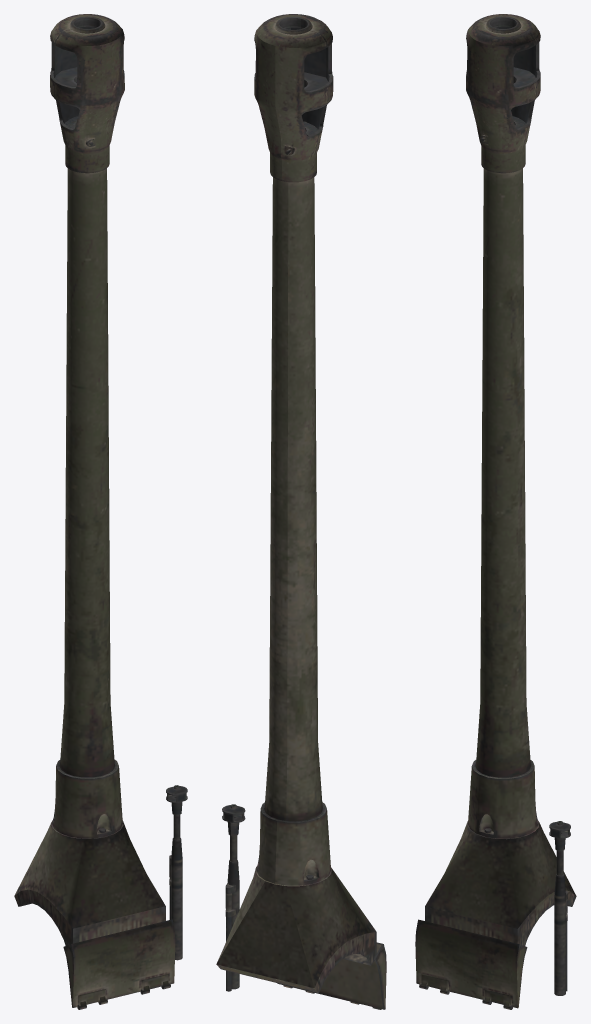
Rendered from Gun_01.glb.
3 renders of one model, left to right at view 1: azimuth 30°, elevation 25°; view 2: azimuth 150°, elevation 25°; view 3: azimuth 330°, elevation 25°, orthographic. The views are drawn at different scales.
Visible parts, largest first — view 1: set_0_group_0; view 2: set_0_group_0; view 3: set_0_group_0.
Boxes of the visible parts, x1=… form: set_0_group_0: x1=14, y1=14, x2=187, y2=1009; set_0_group_0: x1=216, y1=14, x2=386, y2=1009; set_0_group_0: x1=415, y1=14, x2=576, y2=1009.
Bounding box in the file's own units: 0.7064 × 4.8 × 0.5984.
Materials: 1 (1 with a texture image).
